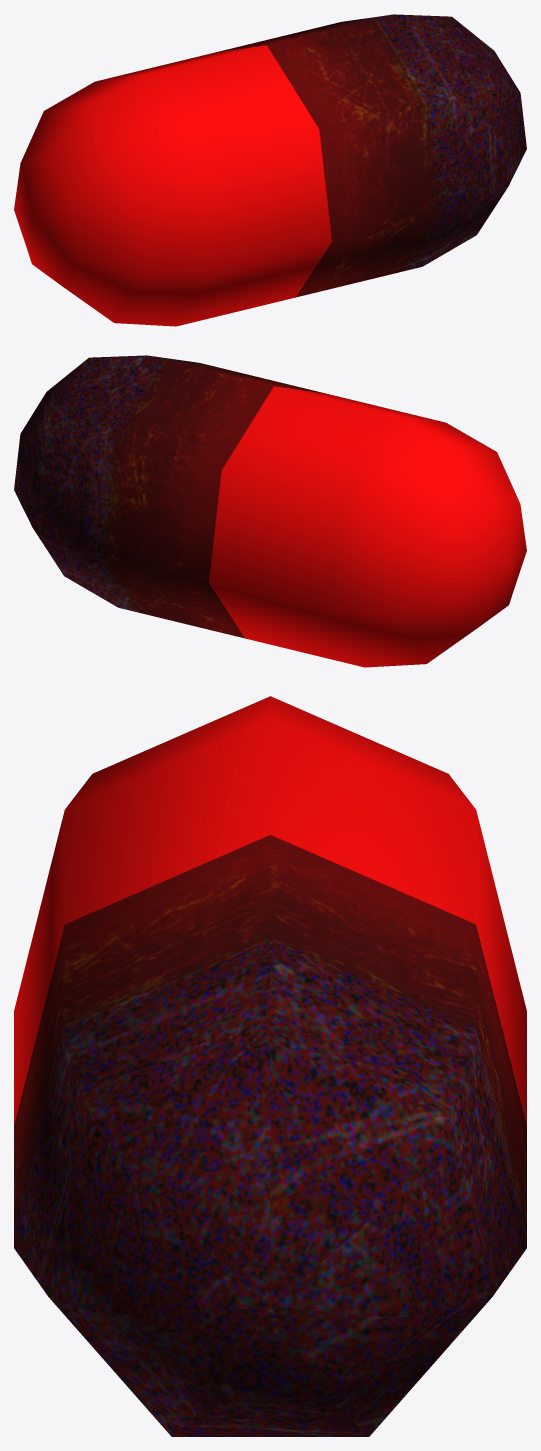
Rendered from red_pill.fbx.
3 views of the same model, one above another, from view 1: azimuth 30°, elevation 25°; view 2: azimuth 150°, elevation 25°; view 3: azimuth 270°, elevation 25° (orthographic). The views are drawn at different scales.
Parts seen in each view (by area): view 1: RedPill; view 2: RedPill; view 3: RedPill.
Part boxes in pixels (left/top/right/bottom): RedPill: left=14, top=14, right=526, bottom=326; RedPill: left=14, top=355, right=526, bottom=667; RedPill: left=14, top=696, right=526, bottom=1436.
Size of the model in its own units: 1205 by 570 by 556.
1 material, 1 textured.
